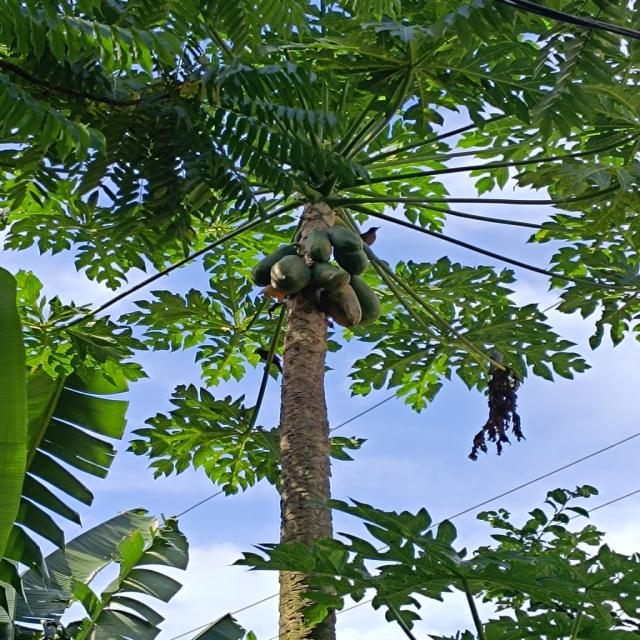Papaya-Tree: (28, 2, 640, 542)
